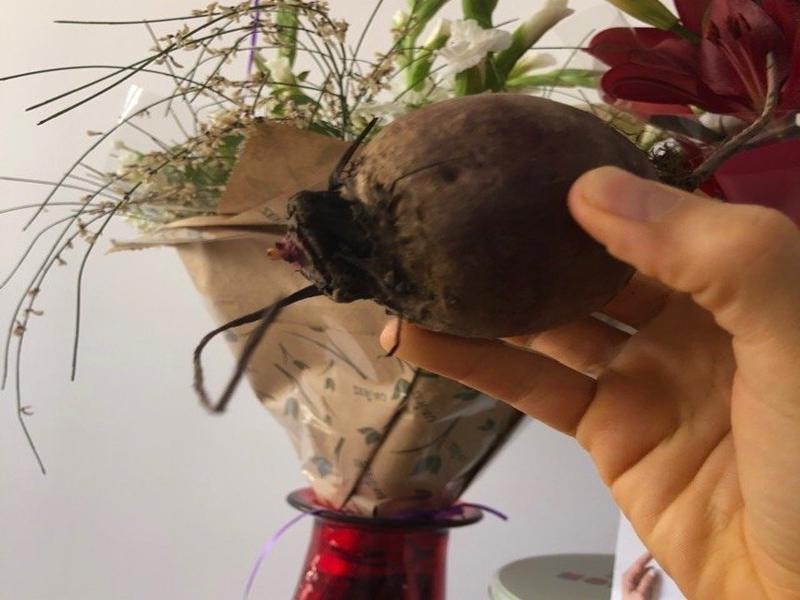Beet: (192, 54, 775, 412)
